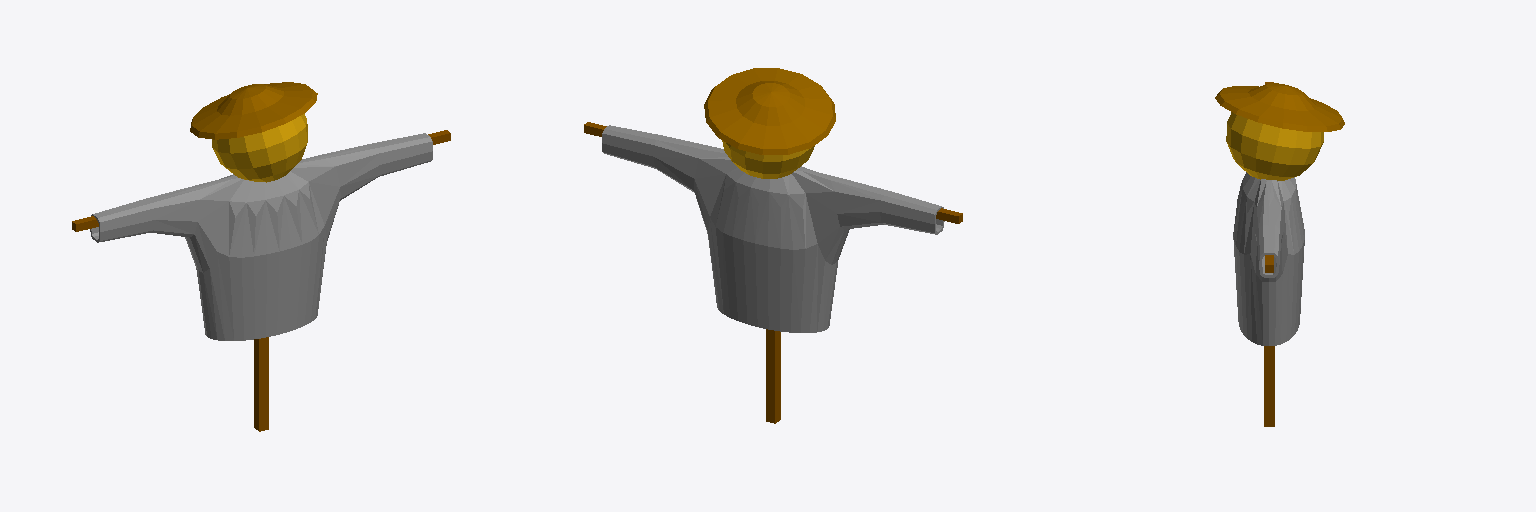
Rendered from scarecrow.obj.
3 renders of one model, left to right at view 1: azimuth 30°, elevation 25°; view 2: azimuth 150°, elevation 25°; view 3: azimuth 270°, elevation 25°, orthographic.
Visible parts, largest first — view 1: cylinder4, sphere5, cube6; view 2: cylinder4, sphere5, cube6, cube7; view 3: cylinder4, sphere5, cube6.
Part boxes in pixels (left/top/right/bottom): cylinder4: left=90, top=133, right=432, bottom=340; sphere5: left=190, top=82, right=317, bottom=182; cube6: left=254, top=337, right=268, bottom=431; cylinder4: left=602, top=125, right=944, bottom=332; sphere5: left=704, top=68, right=835, bottom=178; cube6: left=766, top=329, right=780, bottom=423; cube7: left=584, top=122, right=962, bottom=223; cylinder4: left=1233, top=172, right=1304, bottom=345; sphere5: left=1215, top=83, right=1344, bottom=180; cube6: left=1264, top=346, right=1274, bottom=426.
Size of the model in its own units: 12.67 by 10.89 by 3.82.